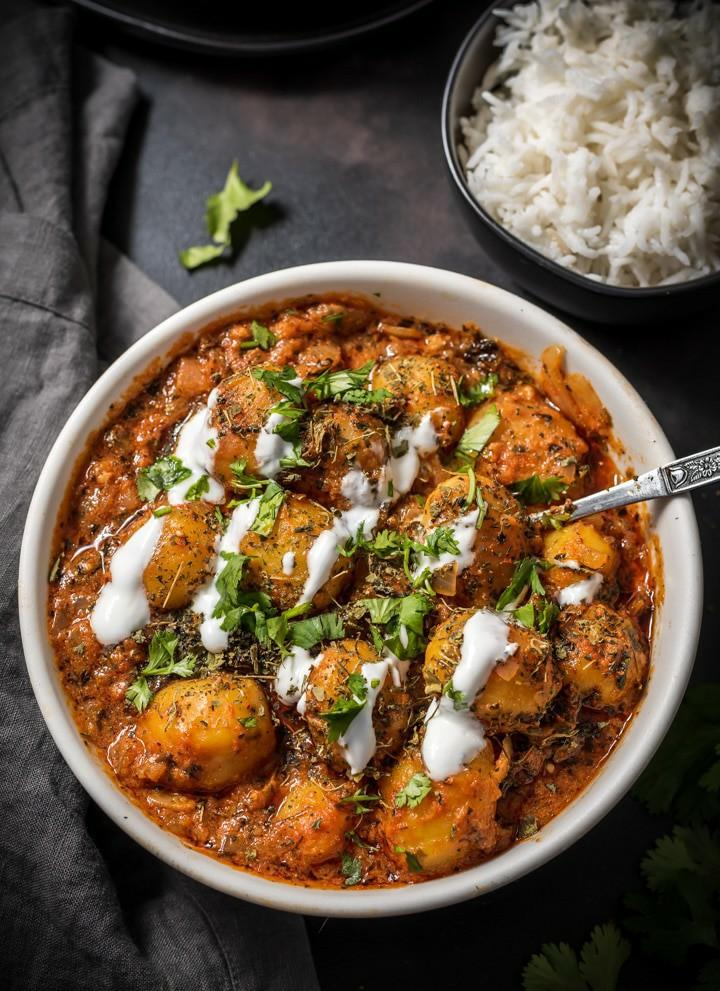DumAloo: (49, 294, 651, 889)
WhiteRice: (458, 0, 720, 285)
